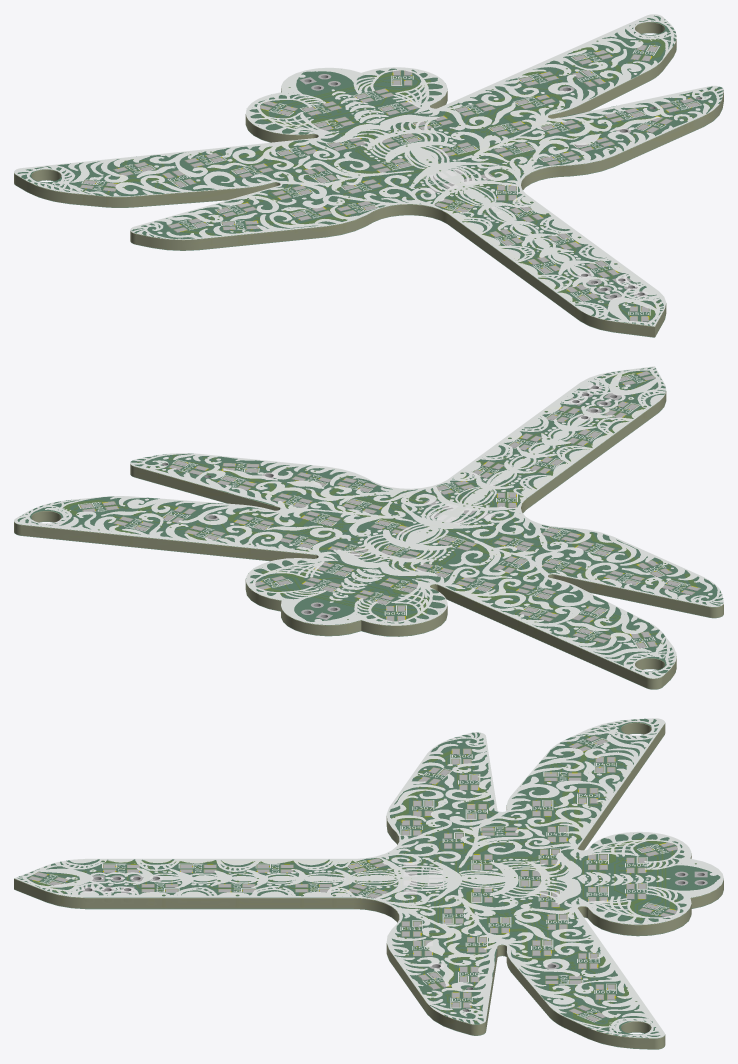
The model's file is sympetrum-v3-dragonfly-badge.glb.
The picture shows the model from 3 angles, top to bottom: view 1: azimuth 30°, elevation 25°; view 2: azimuth 150°, elevation 25°; view 3: azimuth 270°, elevation 25°; orthographic projection.
Parts seen in each view (by area): view 1: =>[0:1:1:5], =>[0:1:1:7], =>[0:1:1:9], =>[0:1:1:2]; view 2: =>[0:1:1:5], =>[0:1:1:7], =>[0:1:1:9], =>[0:1:1:2]; view 3: =>[0:1:1:5], =>[0:1:1:7], =>[0:1:1:9], =>[0:1:1:2].
Boxes of the visible parts, x1,y1,x2,y2 form: =>[0:1:1:5]: (14,14,723,326); =>[0:1:1:7]: (14,15,723,337); =>[0:1:1:9]: (14,16,723,337); =>[0:1:1:2]: (81,40,717,321); =>[0:1:1:5]: (14,366,723,678); =>[0:1:1:7]: (14,367,723,689); =>[0:1:1:9]: (14,368,723,689); =>[0:1:1:2]: (64,371,699,648); =>[0:1:1:5]: (14,718,723,1038); =>[0:1:1:7]: (14,718,723,1049); =>[0:1:1:9]: (14,719,723,1049); =>[0:1:1:2]: (29,736,707,1025).
Bounding box in the file's own units: 0.0986 × 0.00166 × 0.0924.
4 materials, 4 textured.
